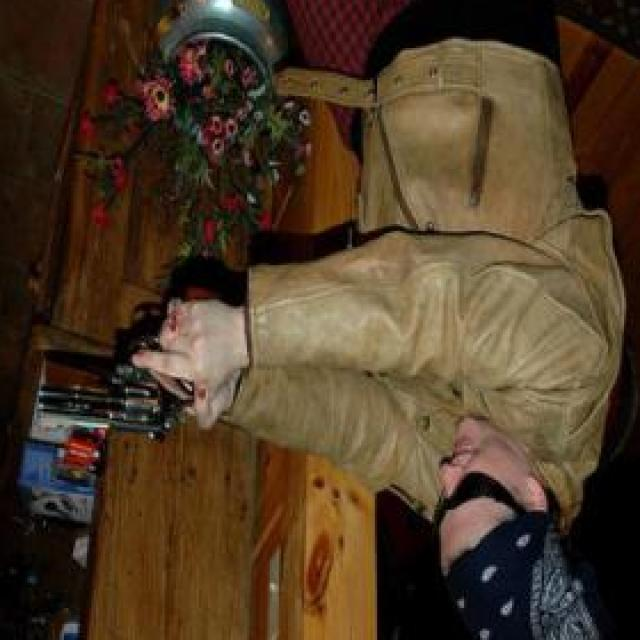pistol: (41, 283, 217, 432)
